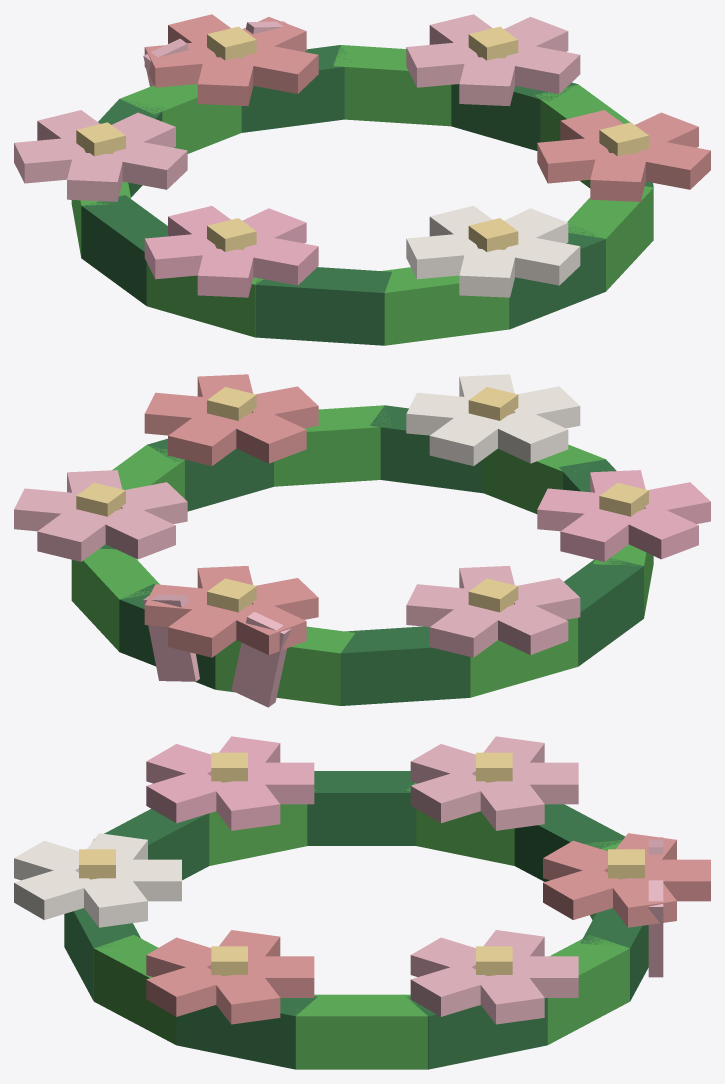
The model's file is CatCafe_Accessory_FlowerCrown.glb.
3 renders of one model, top to bottom at view 1: azimuth 30°, elevation 25°; view 2: azimuth 150°, elevation 25°; view 3: azimuth 270°, elevation 25°, orthographic.
Visible parts, largest first — view 1: CatCafe_Accessory_FlowerCrown; view 2: CatCafe_Accessory_FlowerCrown; view 3: CatCafe_Accessory_FlowerCrown.
Boxes of the visible parts, x1,y1,x2,y2 form: CatCafe_Accessory_FlowerCrown: (14,14,710,345); CatCafe_Accessory_FlowerCrown: (14,374,710,707); CatCafe_Accessory_FlowerCrown: (14,736,710,1069).
Bounding box in the file's own units: 0.8639 × 0.1399 × 0.9486.
Materials: 1 (1 with a texture image).
